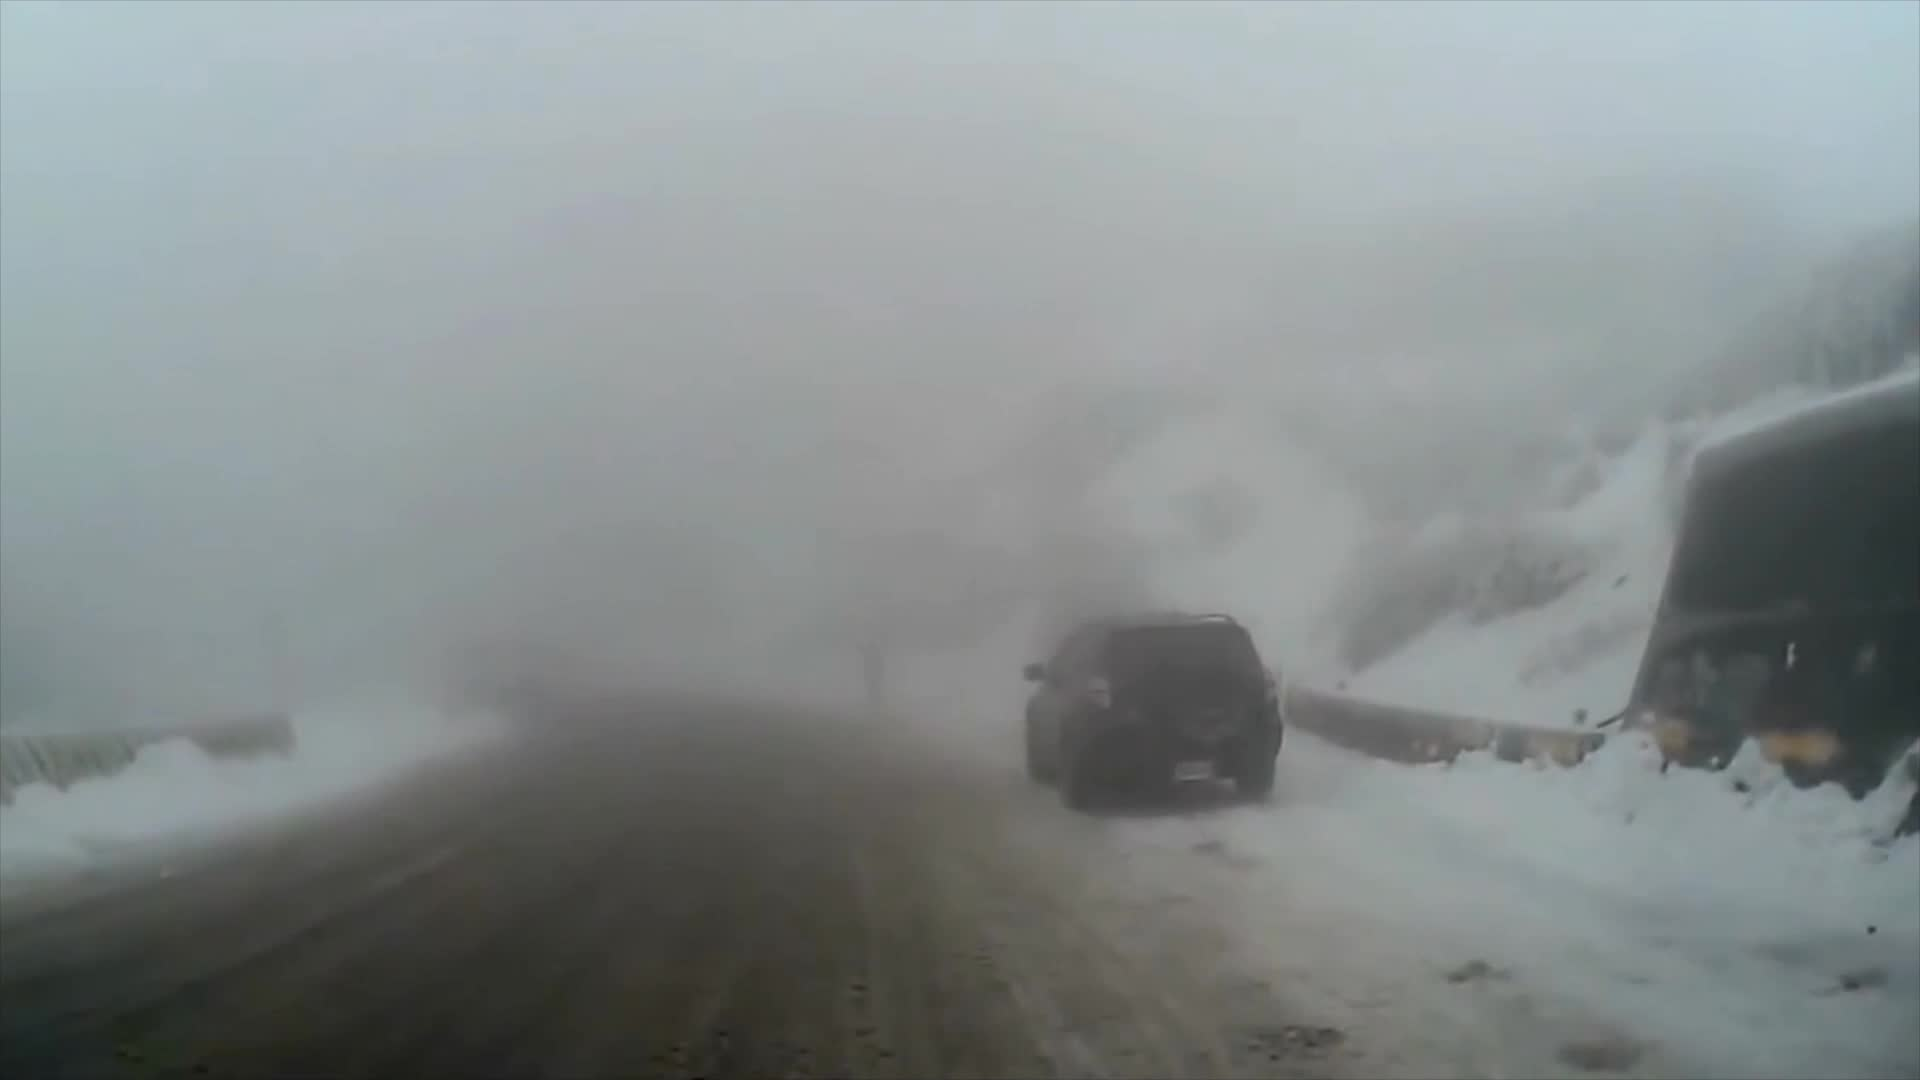vehicle: (1018, 607, 1284, 815)
